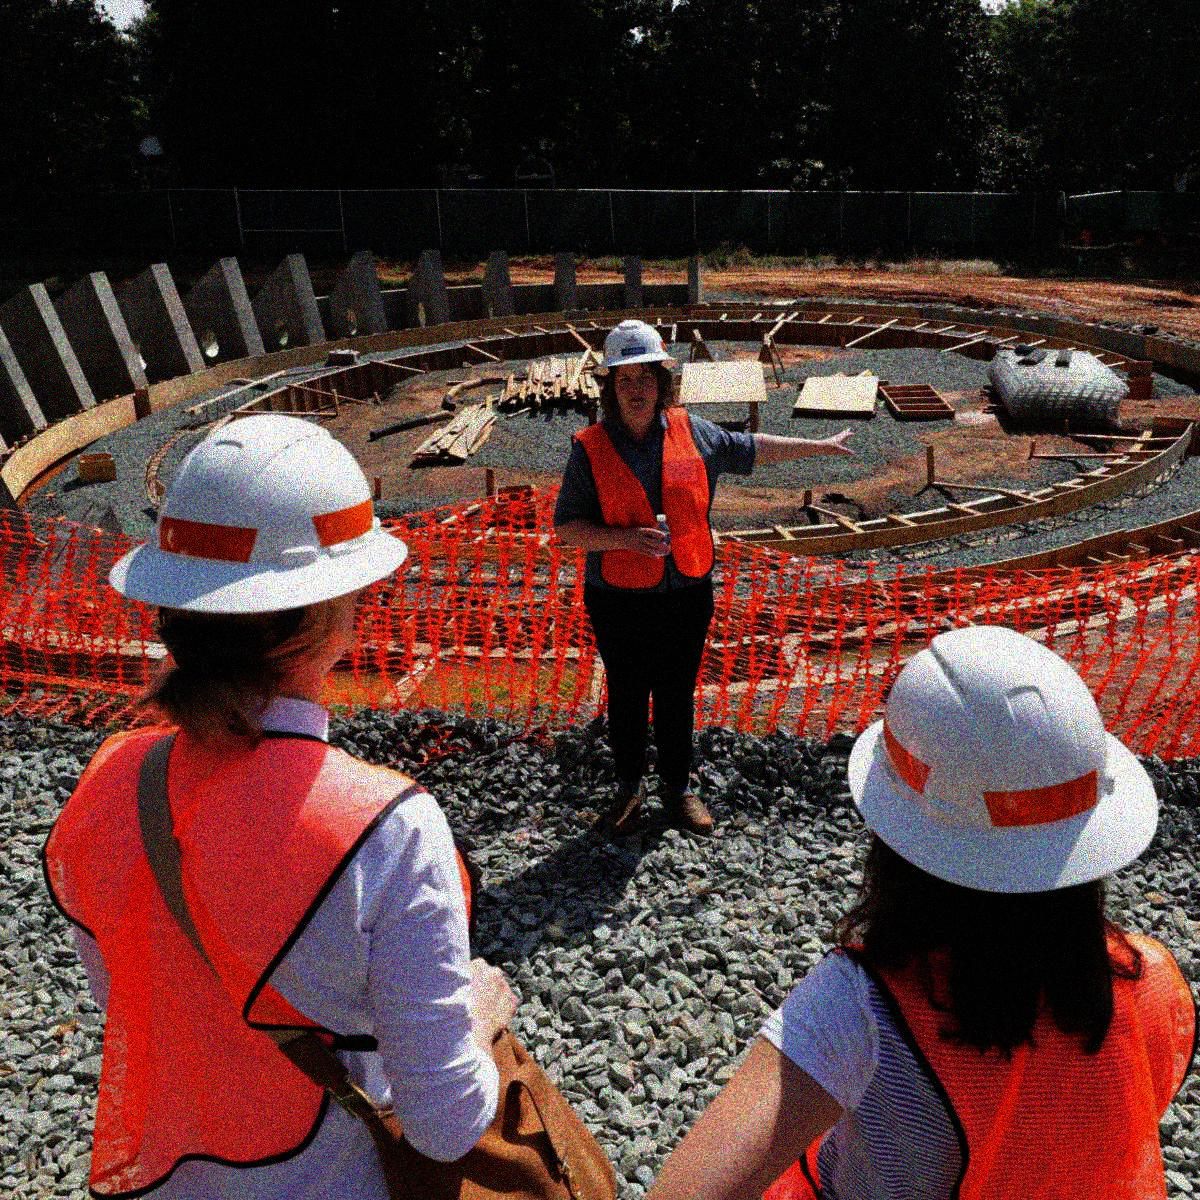helmet: (840, 622, 1160, 951), (104, 404, 416, 704), (588, 316, 679, 426)
